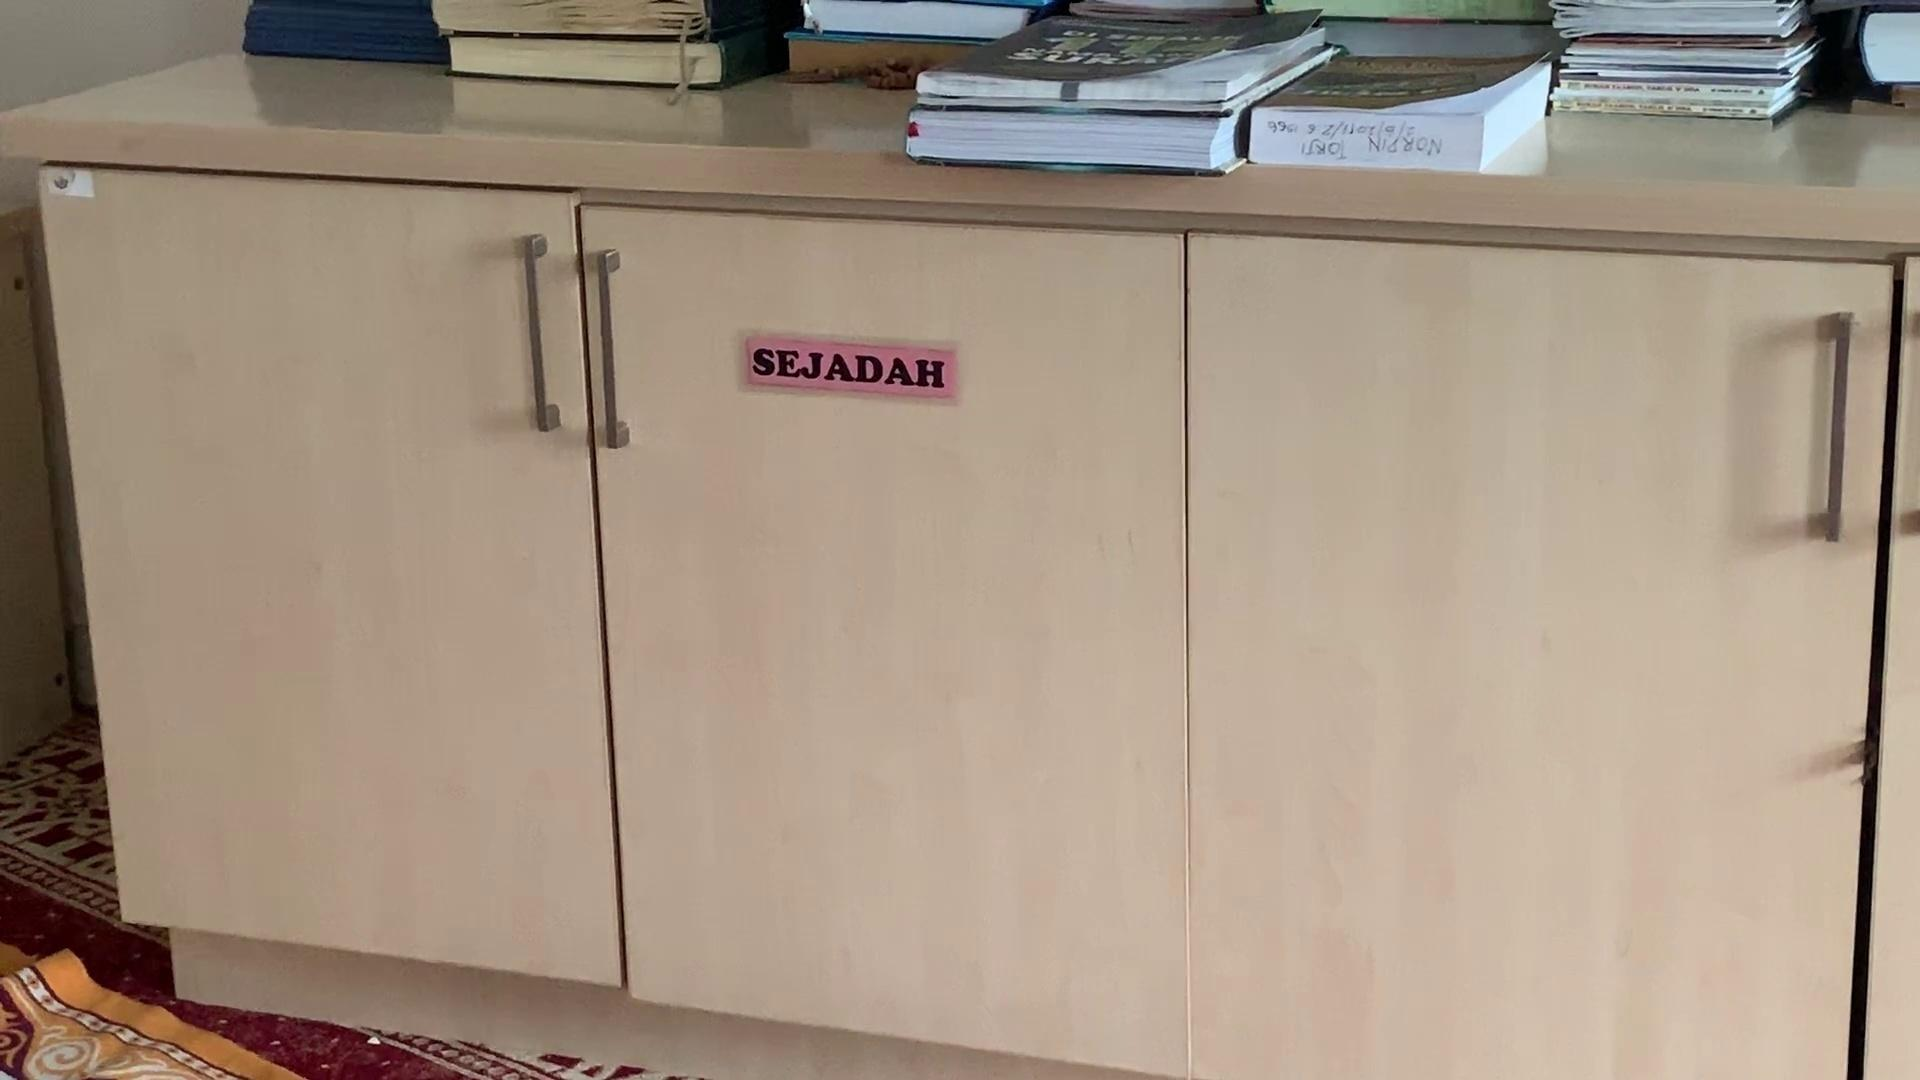cabinet_door: (1189, 243, 1900, 1080), (600, 219, 1189, 1038), (98, 200, 597, 947)
handle: (1797, 309, 1879, 547), (575, 245, 649, 452), (502, 228, 574, 439)
